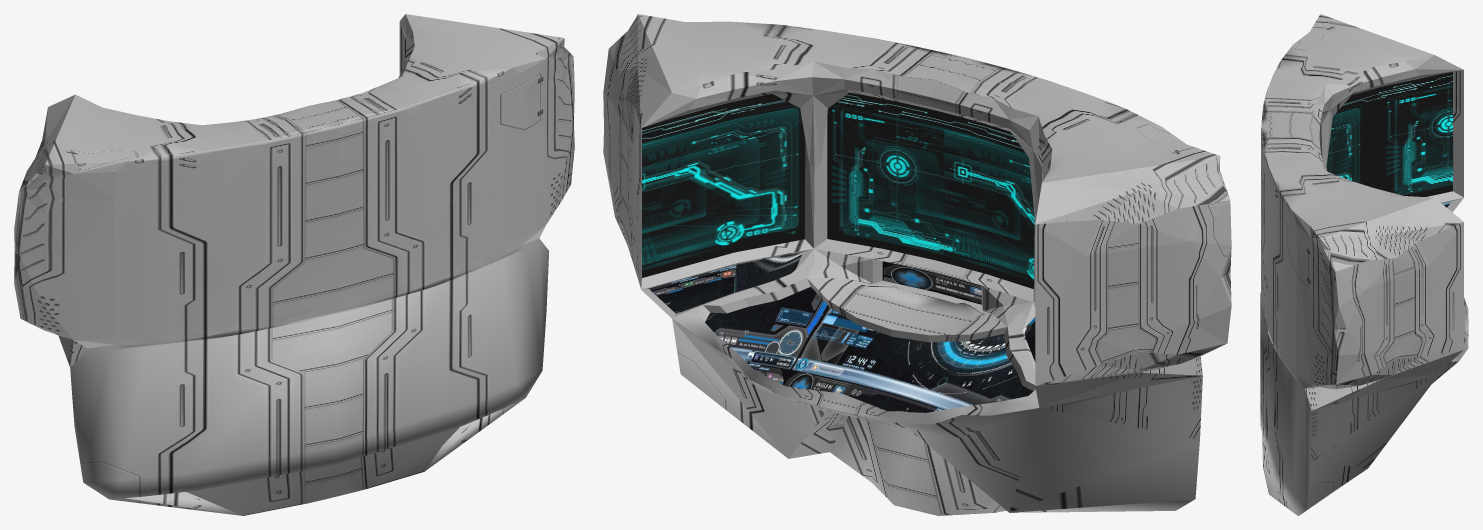
The model's file is computer2.glb.
3 views of the same model, side by side, from view 1: azimuth 30°, elevation 25°; view 2: azimuth 150°, elevation 25°; view 3: azimuth 270°, elevation 25° (orthographic). The views are drawn at different scales.
Parts seen in each view (by area): view 1: MaterialFBXASC032FBXASC0352142150880; view 2: MaterialFBXASC032FBXASC0352142150880, MaterialFBXASC032FBXASC0352142148966, MaterialFBXASC032FBXASC0352142148017, MaterialFBXASC032FBXASC0352142148579; view 3: MaterialFBXASC032FBXASC0352142150880, MaterialFBXASC032FBXASC0352142148966.
Part boxes in pixels (bbox=[...]): MaterialFBXASC032FBXASC0352142150880: bbox=[14, 14, 574, 515]; MaterialFBXASC032FBXASC0352142150880: bbox=[603, 14, 1231, 515]; MaterialFBXASC032FBXASC0352142148966: bbox=[642, 92, 1034, 288]; MaterialFBXASC032FBXASC0352142148017: bbox=[705, 287, 1033, 412]; MaterialFBXASC032FBXASC0352142148579: bbox=[649, 252, 1035, 361]; MaterialFBXASC032FBXASC0352142150880: bbox=[1260, 14, 1468, 515]; MaterialFBXASC032FBXASC0352142148966: bbox=[1326, 72, 1452, 196].
Bounding box in the file's own units: 26.48 × 16.76 × 9.61.
4 materials, 4 textured.
